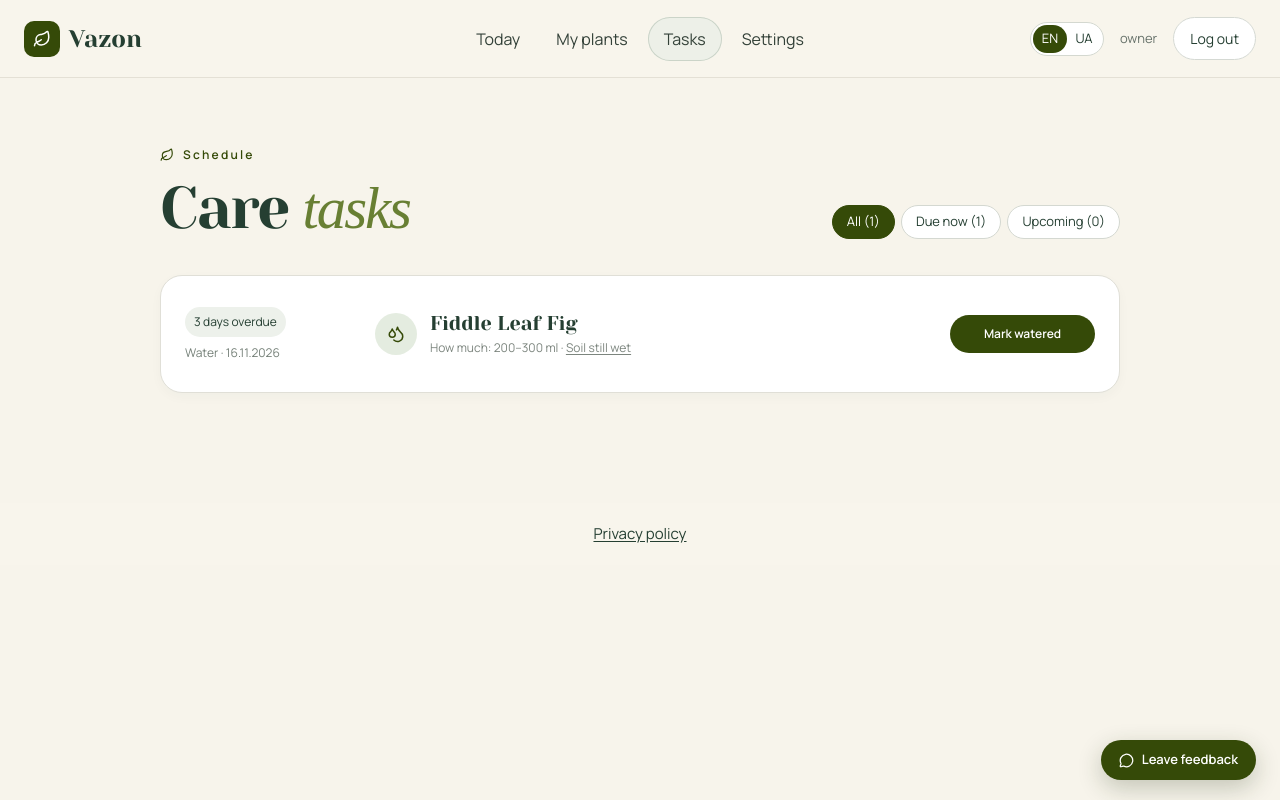
it: care action confirmation › 409 TOO_EARLY: "Cancel" logs nothing
Click the button "Mark watered". click: (1022, 334)
box: x1=950 y1=315 x2=1095 y2=353
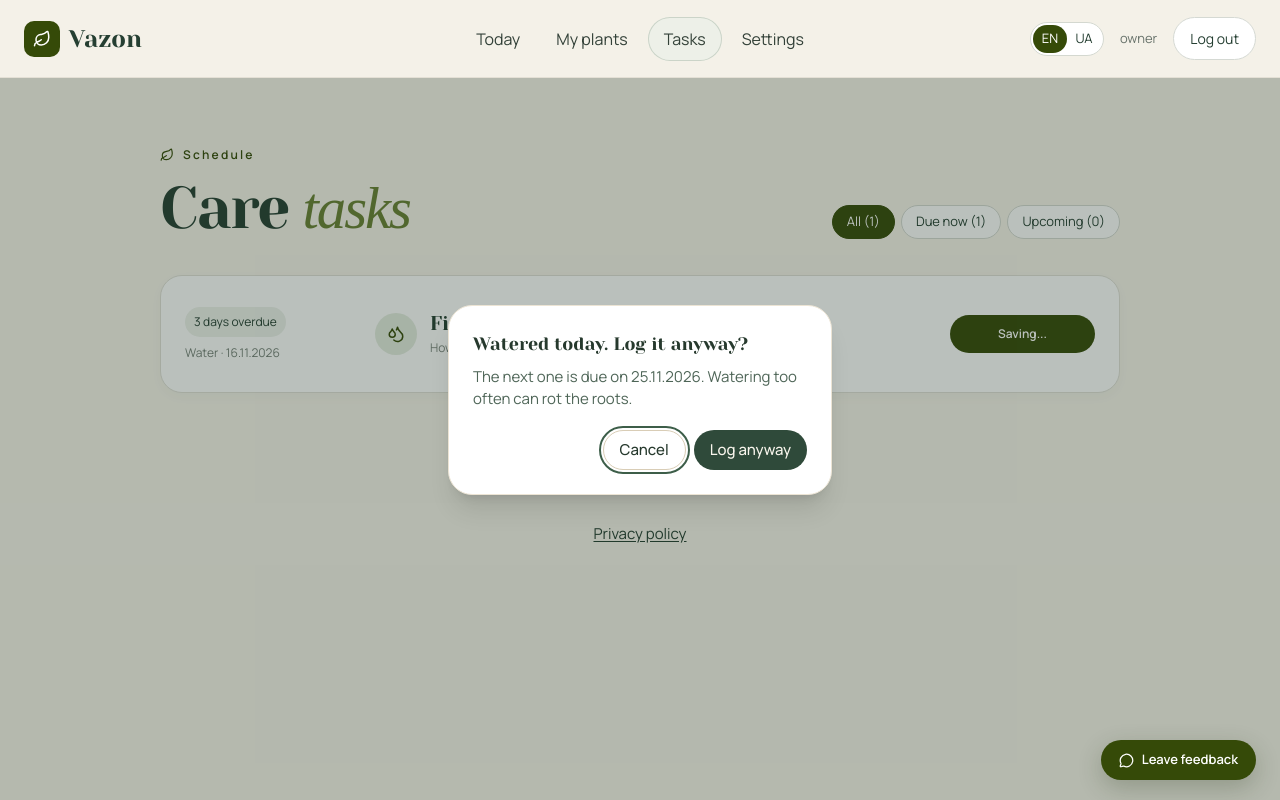
Click the button "Cancel". click: (644, 450)
box: x1=603 y1=430 x2=686 y2=470
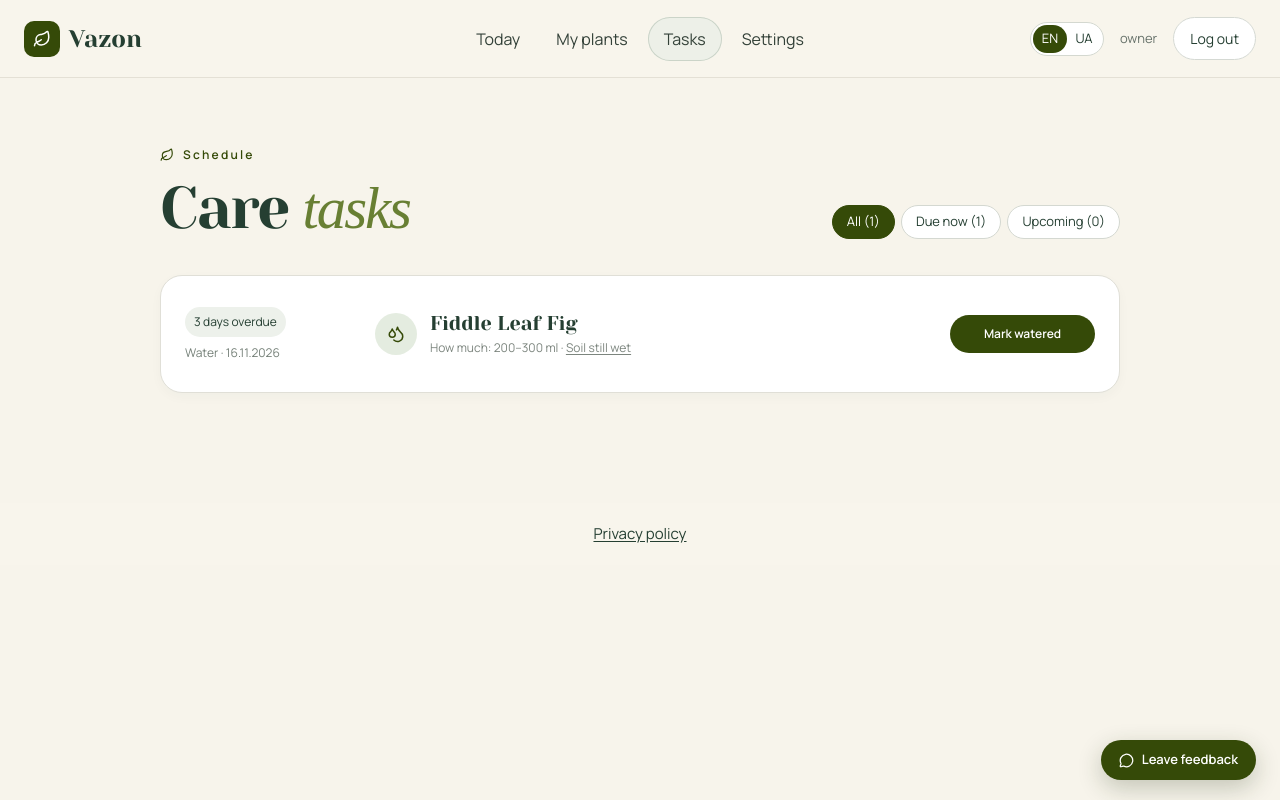
Expected: the dialog is gone
